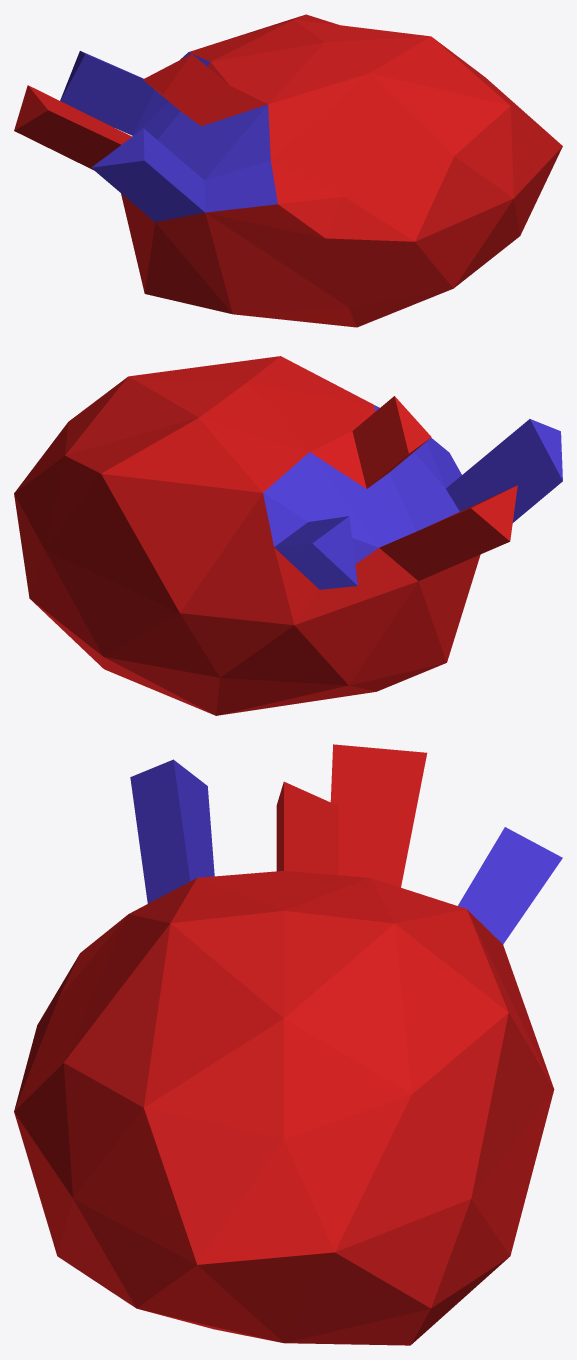
The model's file is heart.fbx.
3 views of the same model, one above another, from view 1: azimuth 30°, elevation 25°; view 2: azimuth 150°, elevation 25°; view 3: azimuth 270°, elevation 25° (orthographic). The views are drawn at different scales.
Parts seen in each view (by area): view 1: Icosphere; view 2: Icosphere; view 3: Icosphere.
Part boxes in pixels (box(x1,y1,x2,y2)): Icosphere: box(14, 14, 562, 327); Icosphere: box(14, 356, 562, 715); Icosphere: box(14, 744, 562, 1345).
Size of the model in its own units: 144 by 81.96 by 94.09.
